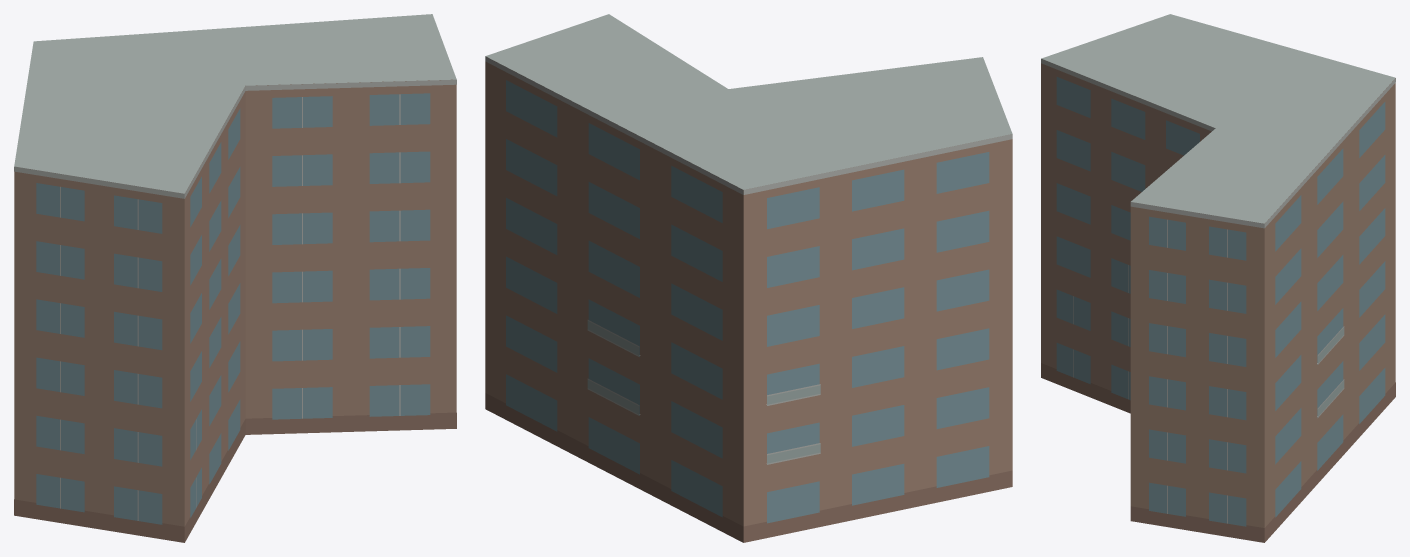
The model's file is survey-upis-32888876.glb.
3 views of the same model, side by side, from view 1: azimuth 30°, elevation 25°; view 2: azimuth 150°, elevation 25°; view 3: azimuth 270°, elevation 25° (orthographic). The views are drawn at different scales.
Parts seen in each view (by area): view 1: survey-upis-32888876.tmp; view 2: survey-upis-32888876.tmp; view 3: survey-upis-32888876.tmp.
Boxes of the visible parts, bbox=[...] form: survey-upis-32888876.tmp: bbox=[14, 14, 456, 542]; survey-upis-32888876.tmp: bbox=[485, 14, 1012, 542]; survey-upis-32888876.tmp: bbox=[1041, 14, 1395, 542].
Size of the model in its own units: 23.4 by 16.6 by 16.72.
